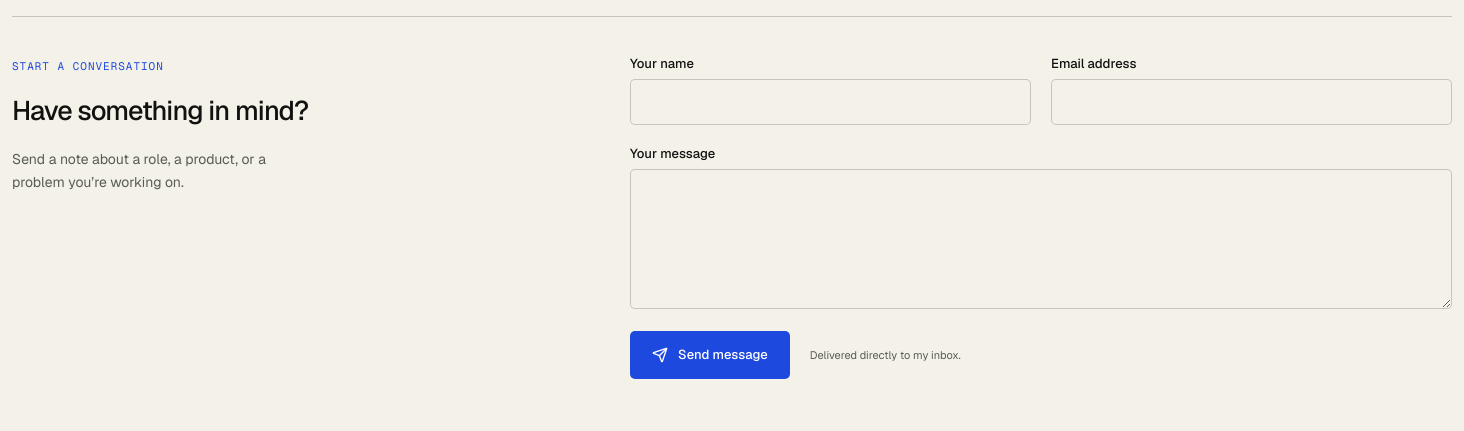
Test: sends structured parameters and confirms success
Type "Test Person" into the field labelled "Your name" at [830, 102], box [630, 79, 1031, 125]
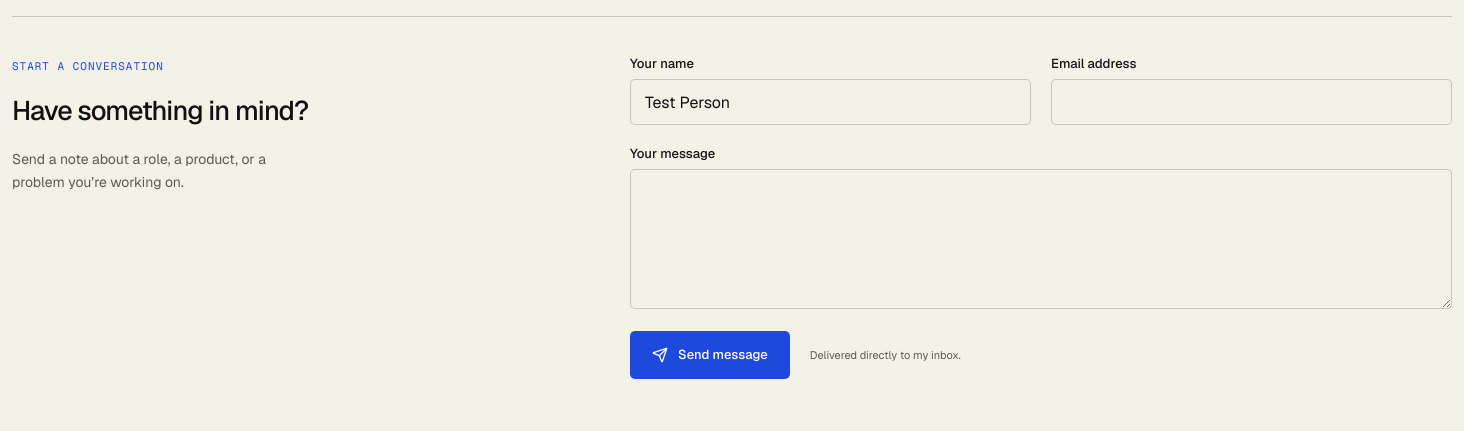
Type "test@example.com" into the field labelled "Email address" at [1252, 102], box [1051, 79, 1452, 125]
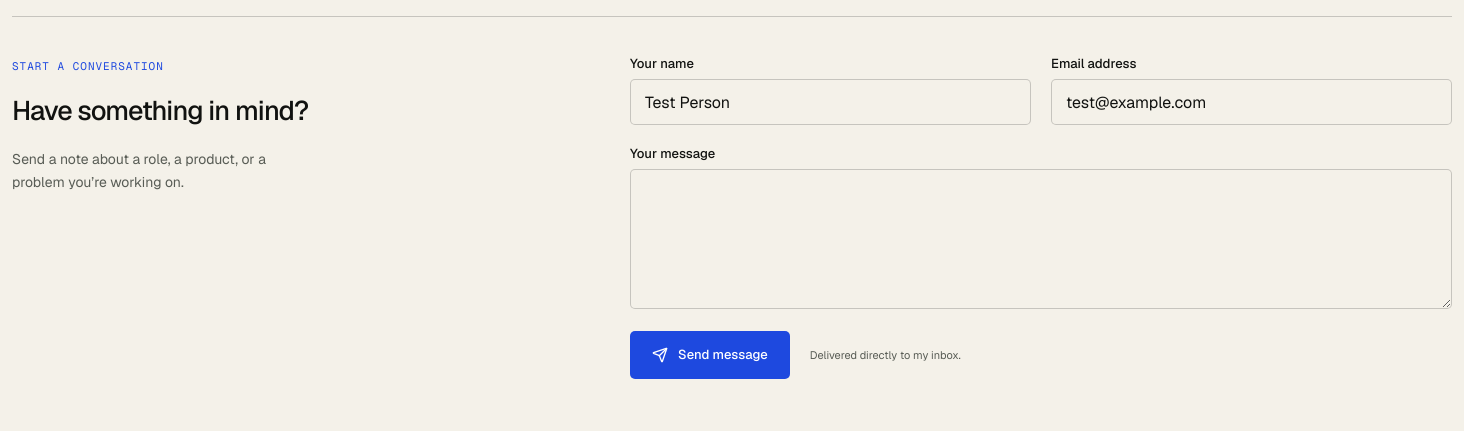
Type "<script>alert(\"hello\")</script> This stays plain text." into the text box labelled "Your message" at [1041, 239], box [630, 169, 1452, 309]
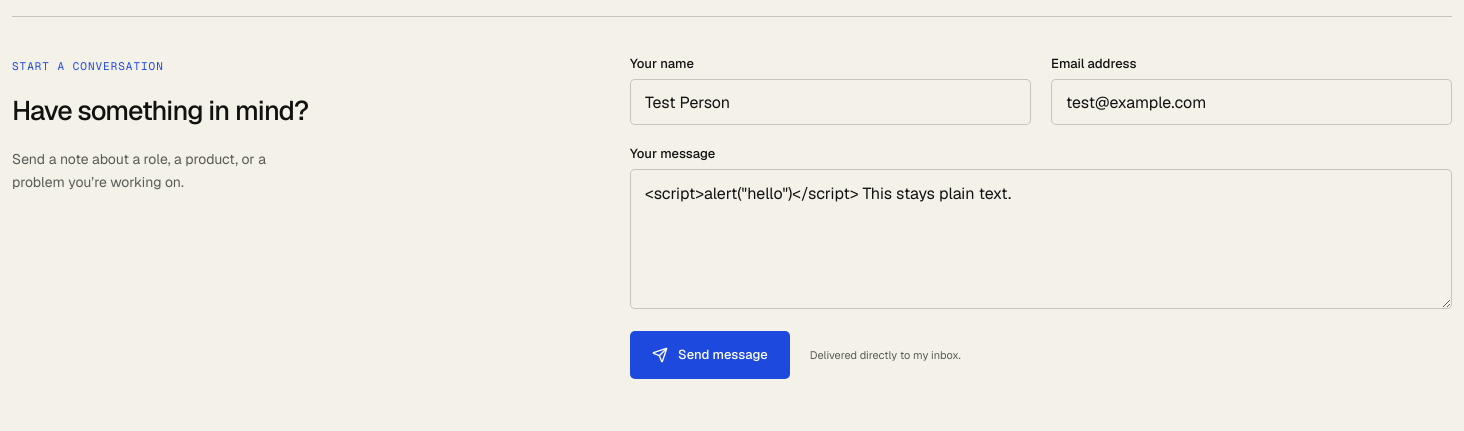
Click the button "Send message" at [710, 355], box [630, 331, 790, 379]
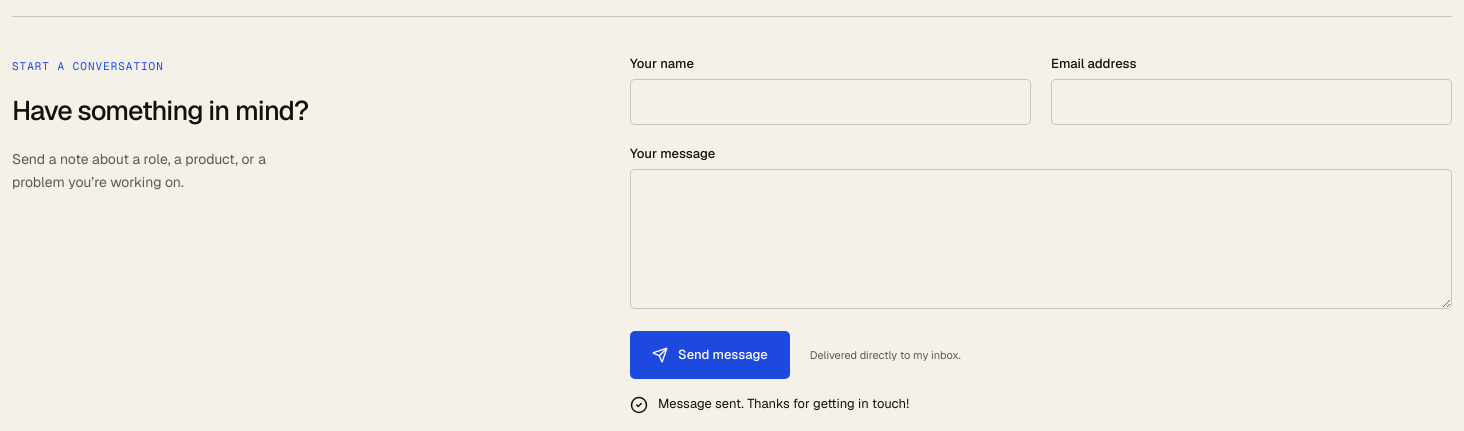
Expected: the text "Message sent. Thanks for getting in touch!" is shown, [658, 393, 909, 414]
